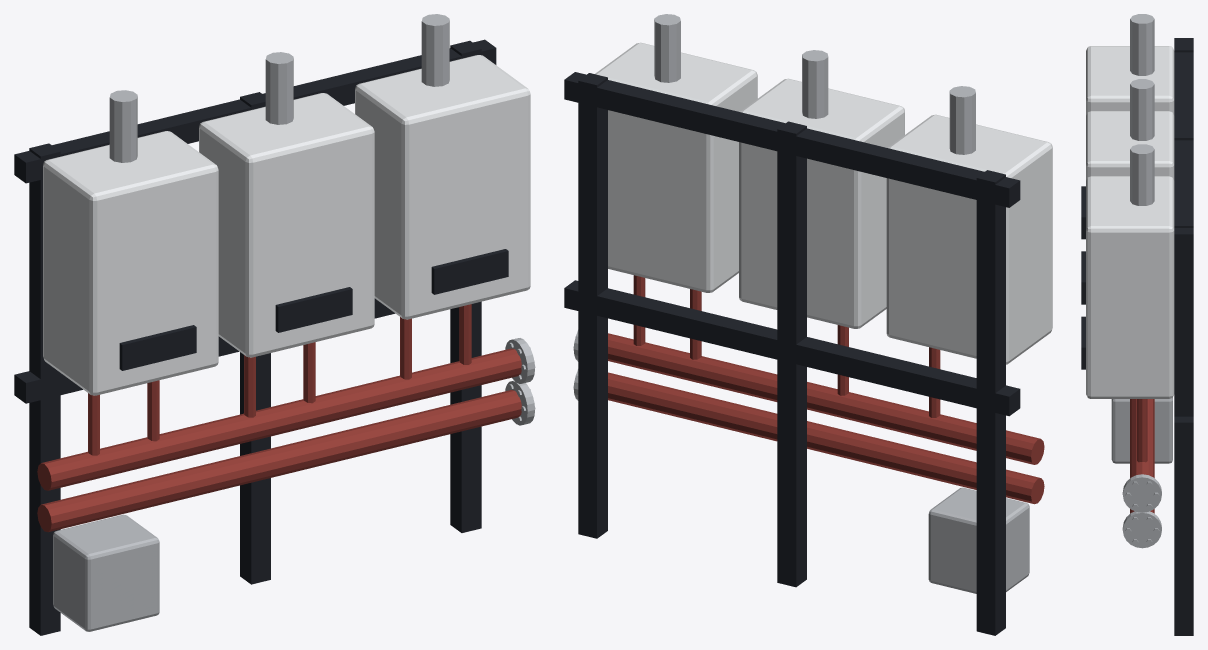
Rendered from boiler-condensing.glb.
3 renders of one model, left to right at view 1: azimuth 30°, elevation 25°; view 2: azimuth 150°, elevation 25°; view 3: azimuth 270°, elevation 25°, orthographic. The views are drawn at different scales.
Visible parts, largest first — view 1: condboiler_cond_unit, condboiler_chiller_dark, condboiler_boiler_pipe, condboiler_chiller_metal; view 2: condboiler_cond_unit, condboiler_chiller_dark, condboiler_boiler_pipe, condboiler_chiller_metal; view 3: condboiler_cond_unit, condboiler_chiller_dark, condboiler_chiller_metal, condboiler_boiler_pipe.
Boxes of the visible parts, bbox=[...] form: condboiler_cond_unit: bbox=[43, 55, 530, 395]; condboiler_chiller_dark: bbox=[14, 39, 508, 635]; condboiler_boiler_pipe: bbox=[37, 304, 521, 532]; condboiler_chiller_metal: bbox=[53, 14, 535, 631]; condboiler_cond_unit: bbox=[595, 42, 1052, 364]; condboiler_chiller_dark: bbox=[564, 72, 1020, 635]; condboiler_boiler_pipe: bbox=[608, 275, 1044, 504]; condboiler_chiller_metal: bbox=[573, 14, 1029, 593]; condboiler_cond_unit: bbox=[1086, 46, 1174, 398]; condboiler_chiller_dark: bbox=[1081, 38, 1193, 635]; condboiler_chiller_metal: bbox=[1111, 14, 1172, 548]; condboiler_boiler_pipe: bbox=[1130, 399, 1154, 513].
Bounding box in the file's own units: 1.94 × 2.08 × 0.46.
